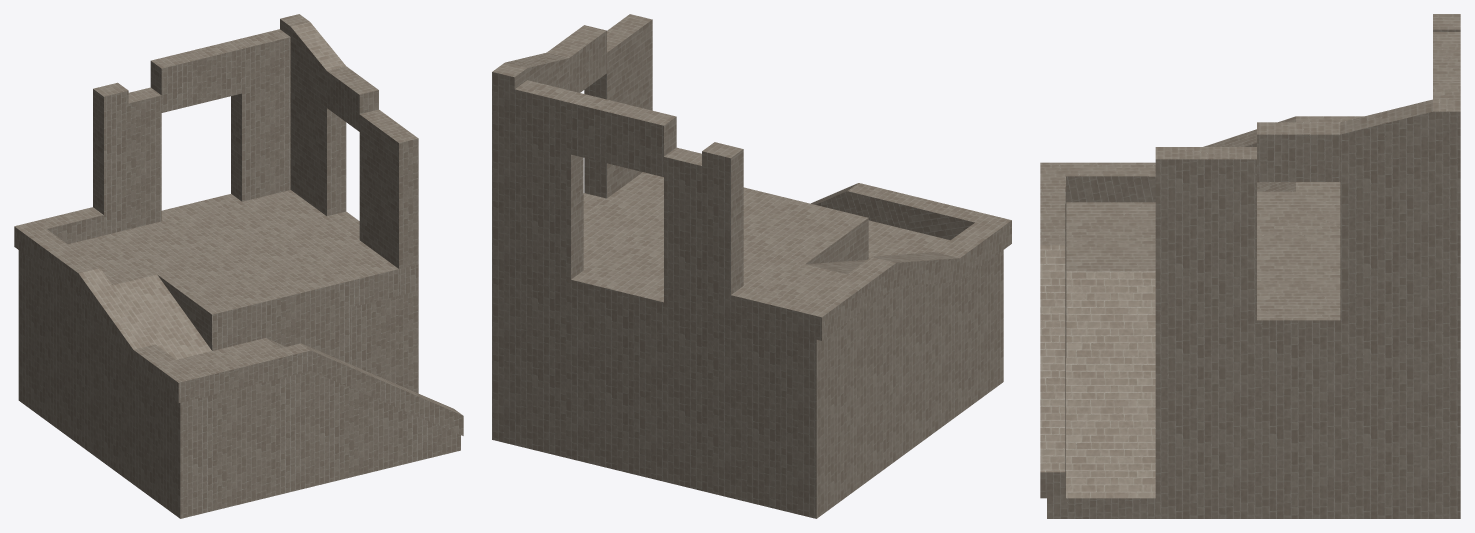
File: Ruin.obj
3 views of the same model, side by side, from view 1: azimuth 30°, elevation 25°; view 2: azimuth 150°, elevation 25°; view 3: azimuth 270°, elevation 25° (orthographic). The views are drawn at different scales.
Visible parts, largest first — view 1: Cube; view 2: Cube; view 3: Cube.
Boxes of the visible parts, <box> form: Cube: <box>14,14,463,518</box>; Cube: <box>492,14,1011,518</box>; Cube: <box>1040,14,1460,518</box>.
Bounding box in the file's own units: 11.98 × 12.77 × 11.96.
Materials: 1 (1 with a texture image).
